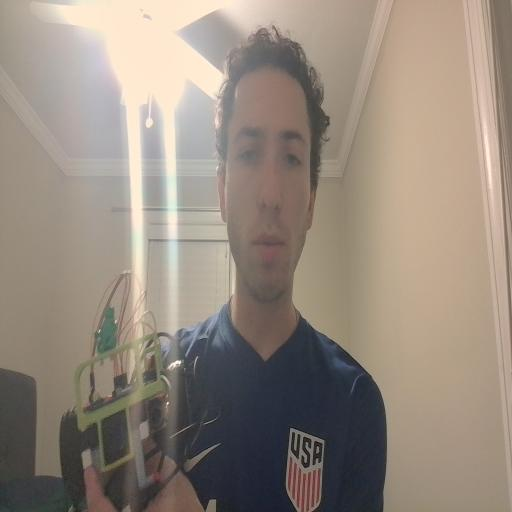green LEGO minifig: (93, 302, 120, 354)
